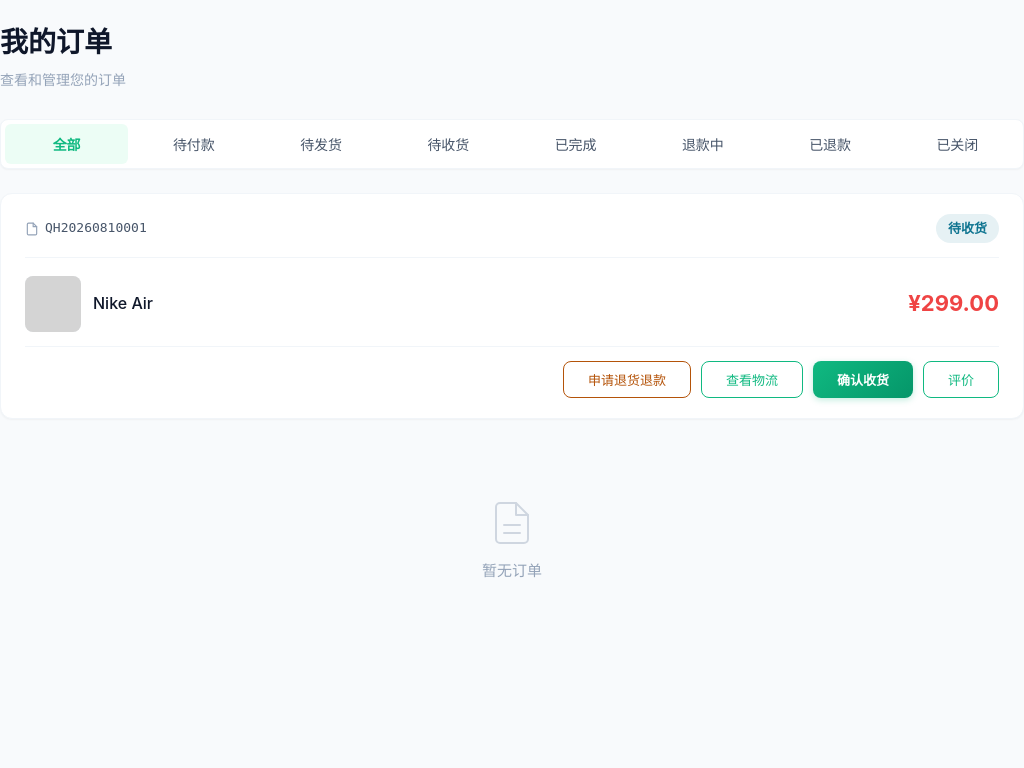
Test: Orders 订单中心页 › 物流信息弹窗（P2-18） › 已发货订单可查看物流并渲染时间线
The width and height of the screenshot is (1024, 768).
Click the button with class "btn-comment" showing "查看物流".
click(752, 380)  # box 701,361 -> 803,398
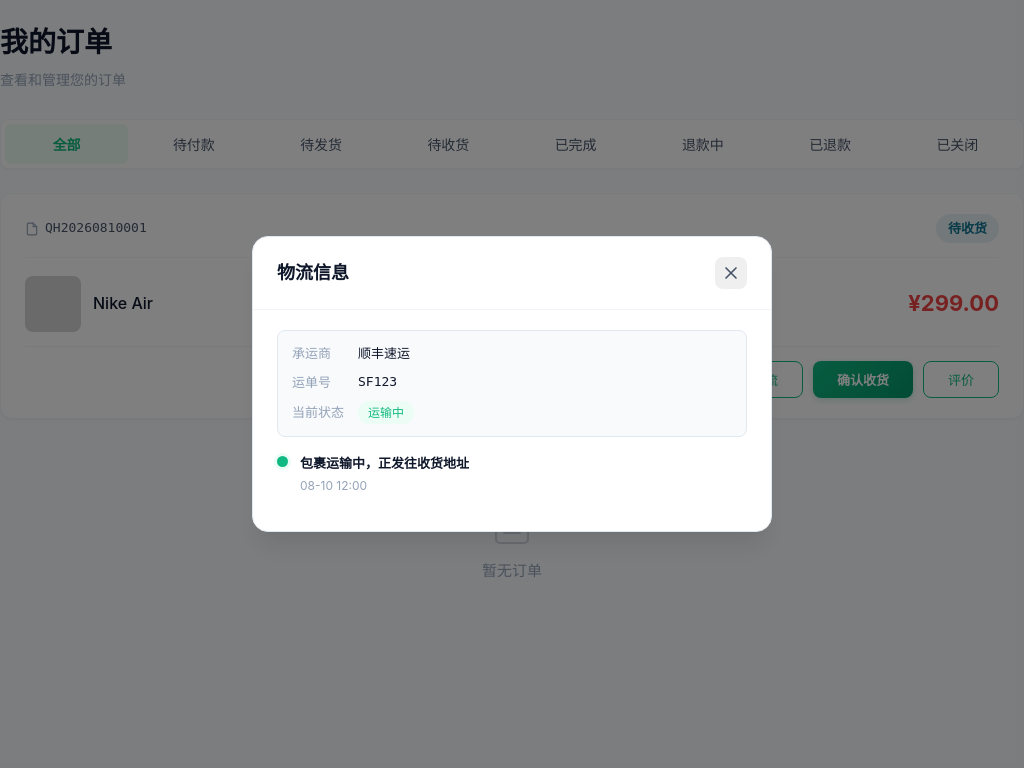
Expected: the text "物流信息" is shown, 277,259 -> 349,288
Expected: the text "顺丰速运" is shown, 358,343 -> 410,364
Expected: the text "SF123" is shown, 358,372 -> 397,393
